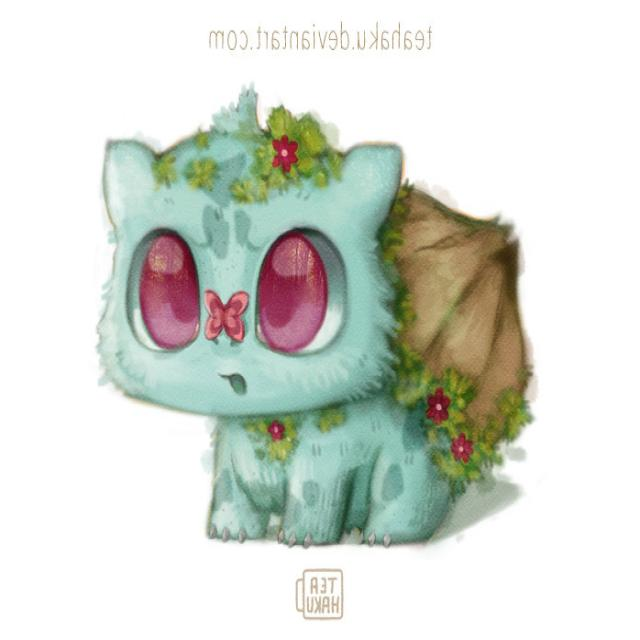Bulbasaur: (96, 115, 541, 545)
